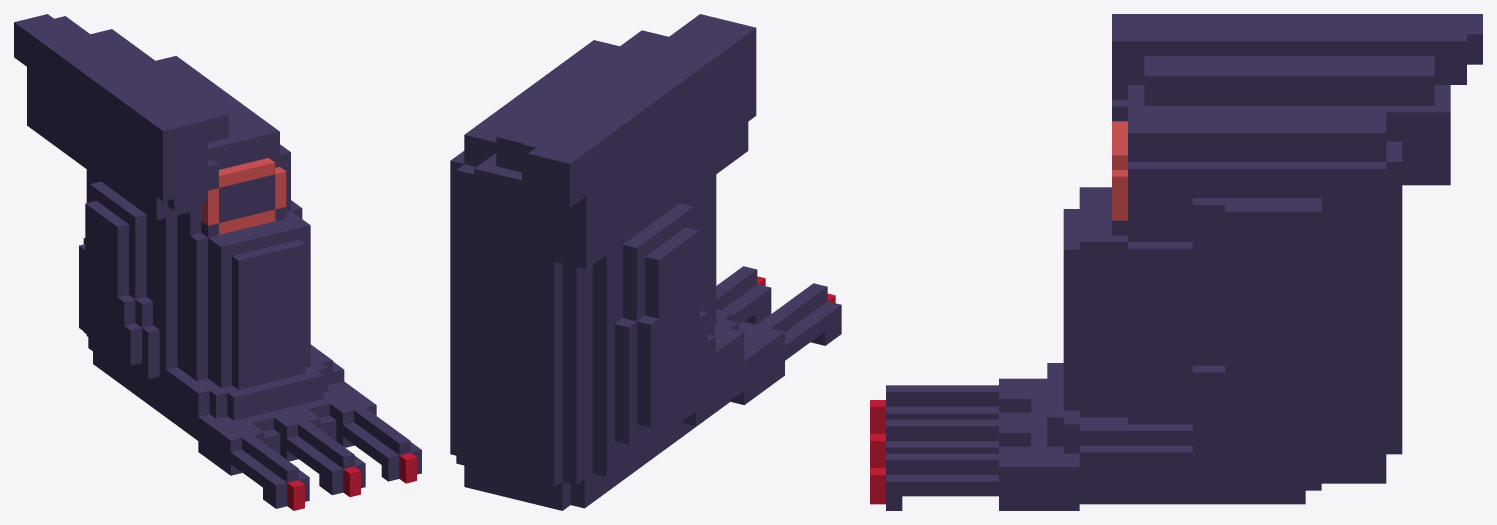
The model's file is JokerWarriror-2.obj.
The picture shows the model from 3 angles, left to right: view 1: azimuth 30°, elevation 25°; view 2: azimuth 150°, elevation 25°; view 3: azimuth 270°, elevation 25°; orthographic projection. The views are drawn at different scales.
Size of the model in its own units: 1.5 by 2.7 by 3.8.
1 material, 1 textured.
